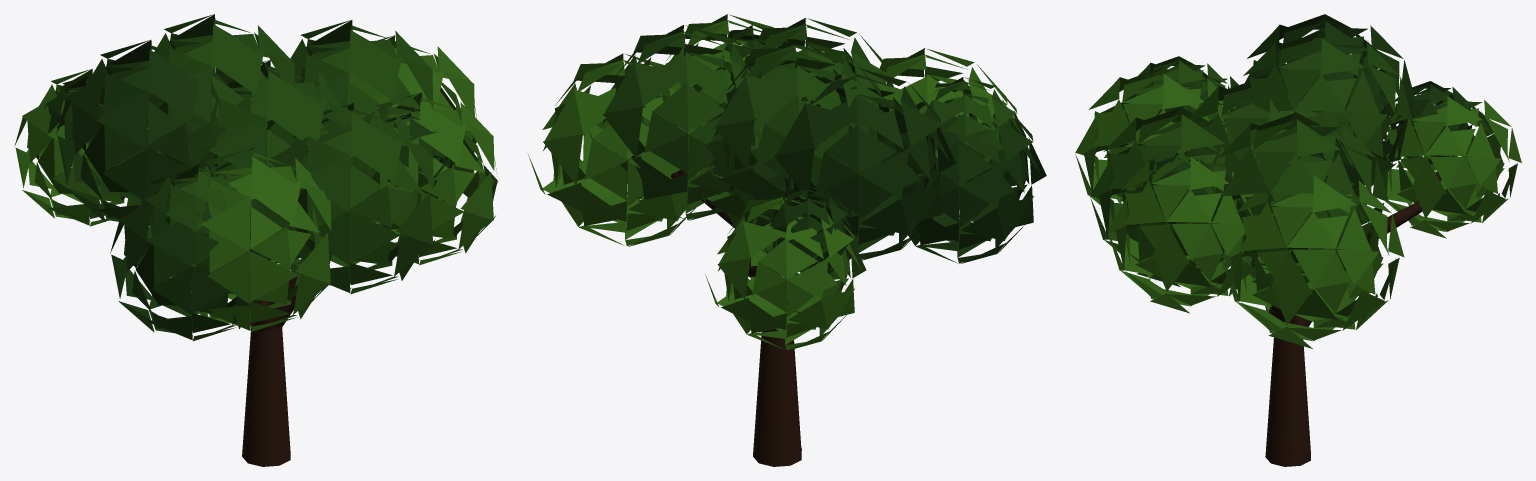
The model's file is lowpoly-oak-tree.obj.
The picture shows the model from 3 angles, left to right: view 1: azimuth 30°, elevation 25°; view 2: azimuth 150°, elevation 25°; view 3: azimuth 270°, elevation 25°; orthographic projection. The views are drawn at different scales.
Parts seen in each view (by area): view 1: canopy_blob_0, canopy_blob_8, canopy_blob_7, canopy_blob_5, canopy_blob_1, canopy_blob_9, canopy_core, canopy_blob_3, branch_0, canopy_blob_10, canopy_blob_6, canopy_blob_4 (+2 smaller); view 2: canopy_blob_8, canopy_blob_3, canopy_blob_4, canopy_blob_10, canopy_blob_9, canopy_blob_5, branch_0, canopy_blob_7, canopy_blob_6, canopy_core, canopy_blob_11, canopy_blob_0 (+2 smaller); view 3: canopy_blob_4, canopy_blob_1, canopy_blob_10, canopy_blob_9, canopy_blob_3, canopy_blob_0, canopy_blob_7, canopy_blob_8, branch_0, canopy_core, canopy_blob_11, canopy_blob_6 (+3 smaller).
Boxes of the visible parts, left/top/right/bottom form: canopy_blob_0: left=268, top=103, right=435, bottom=294; canopy_blob_8: left=56, top=40, right=230, bottom=226; canopy_blob_7: left=171, top=147, right=332, bottom=331; canopy_blob_5: left=110, top=171, right=270, bottom=341; canopy_blob_1: left=351, top=92, right=497, bottom=265; canopy_blob_9: left=130, top=14, right=294, bottom=166; canopy_core: left=166, top=60, right=359, bottom=264; canopy_blob_3: left=266, top=20, right=433, bottom=178; branch_0: left=242, top=326, right=290, bottom=466; canopy_blob_10: left=14, top=69, right=139, bottom=226; canopy_blob_6: left=145, top=164, right=250, bottom=280; canopy_blob_4: left=348, top=35, right=476, bottom=201; canopy_blob_8: left=759, top=67, right=955, bottom=260; canopy_blob_3: left=588, top=25, right=770, bottom=220; canopy_blob_4: left=528, top=53, right=708, bottom=246; canopy_blob_10: left=705, top=191, right=866, bottom=350; canopy_blob_9: left=699, top=38, right=887, bottom=220; canopy_blob_5: left=891, top=90, right=1046, bottom=263; branch_0: left=753, top=330, right=801, bottom=466; canopy_blob_7: left=874, top=48, right=1014, bottom=226; canopy_blob_6: left=923, top=77, right=1026, bottom=195; canopy_core: left=688, top=44, right=891, bottom=228; canopy_blob_11: left=765, top=187, right=855, bottom=274; canopy_blob_0: left=754, top=18, right=893, bottom=144; canopy_blob_4: left=1222, top=175, right=1404, bottom=348; canopy_blob_1: left=1108, top=150, right=1261, bottom=313; canopy_blob_10: left=1382, top=90, right=1521, bottom=238; canopy_blob_9: left=1231, top=31, right=1412, bottom=186; canopy_blob_3: left=1210, top=112, right=1388, bottom=287; canopy_blob_0: left=1090, top=107, right=1259, bottom=286; canopy_blob_7: left=1075, top=67, right=1236, bottom=209; canopy_blob_8: left=1245, top=14, right=1414, bottom=170; branch_0: left=1265, top=337, right=1310, bottom=466; canopy_core: left=1188, top=75, right=1367, bottom=266; canopy_blob_11: left=1388, top=81, right=1472, bottom=164; canopy_blob_6: left=1123, top=56, right=1234, bottom=143.
Bounding box in the file's own units: 4.3 × 4.17 × 4.18.
